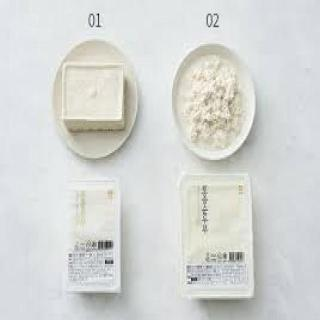Tahu: (55, 62, 130, 136)
